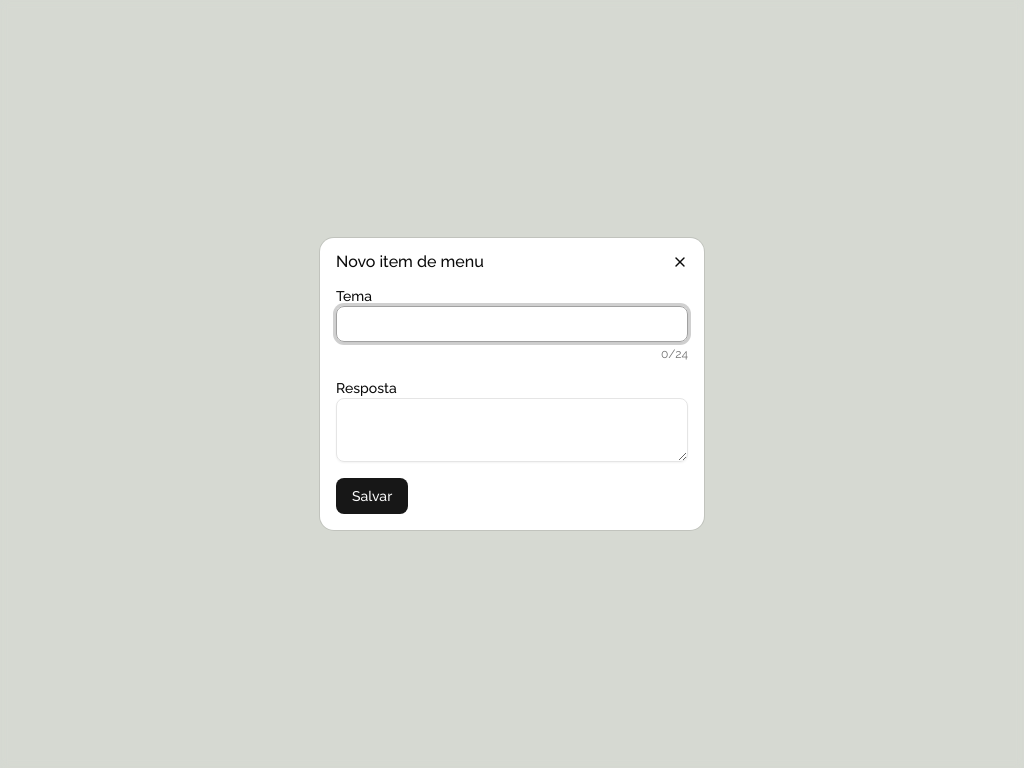
Test: MenuItemDialog › caps the Tema field at 24 characters — WhatsApp rejects longer list row titles
Type "Bingo de Plantas - Outubro completo" into the field labelled "Tema" at (512, 324), box top-left (336, 306), bottom-right (688, 342)
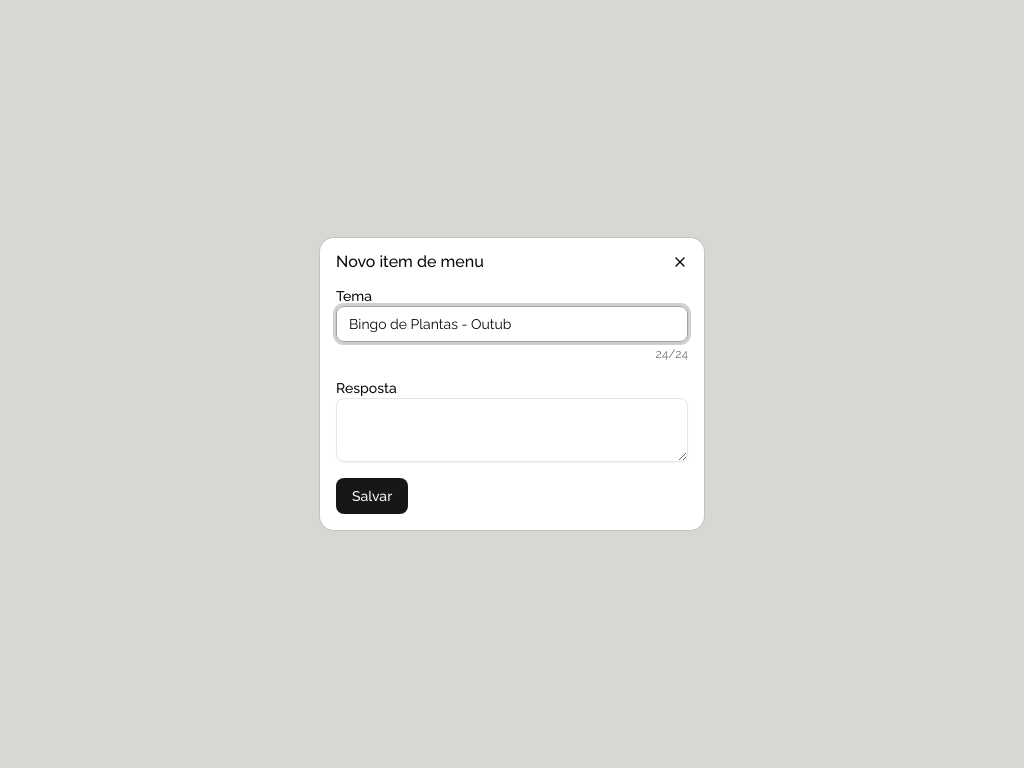
Check: the field labelled "Tema" holds "Bingo de Plantas - Outub", box top-left (336, 306), bottom-right (688, 342)
Check: the text "24/24" is shown, box top-left (655, 347), bottom-right (688, 361)
